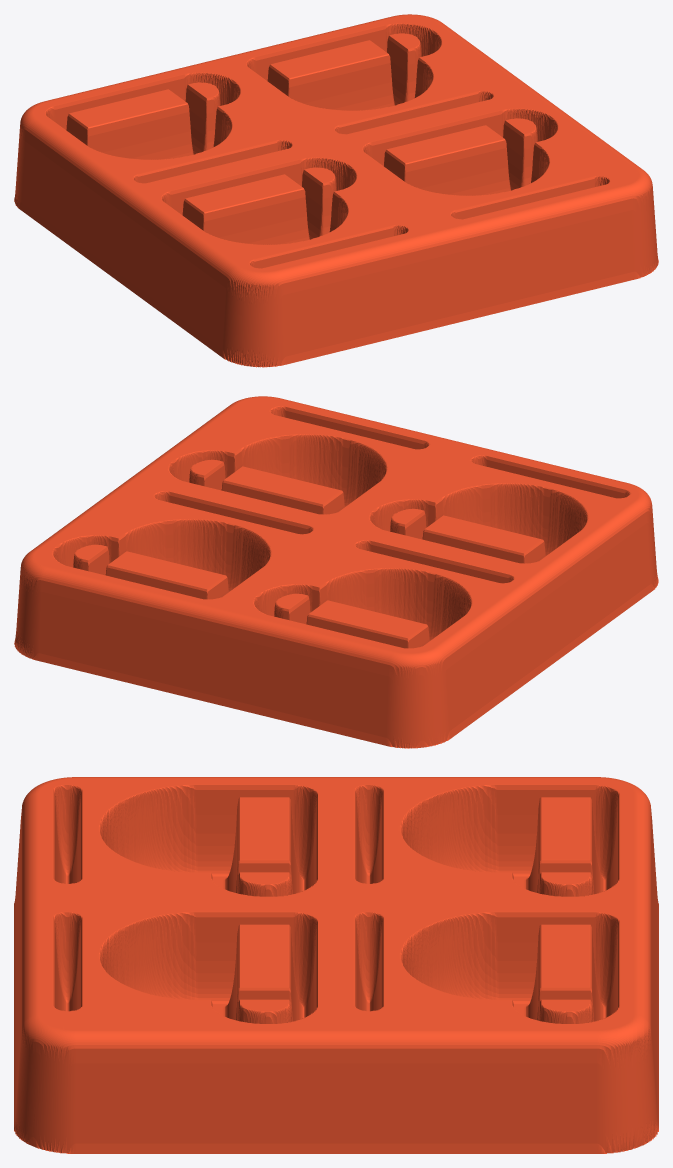
Rendered from mold.glb.
3 views of the same model, one above another, from view 1: azimuth 30°, elevation 25°; view 2: azimuth 150°, elevation 25°; view 3: azimuth 270°, elevation 25° (orthographic). The views are drawn at different scales.
Parts seen in each view (by area): view 1: geometry_0; view 2: geometry_0; view 3: geometry_0.
Part boxes in pixels (left/top/right/bottom): geometry_0: left=14, top=14, right=658, bottom=367; geometry_0: left=14, top=396, right=658, bottom=748; geometry_0: left=14, top=777, right=658, bottom=1153.
Bounding box in the file's own units: 0.0942 × 0.0182 × 0.0942.
